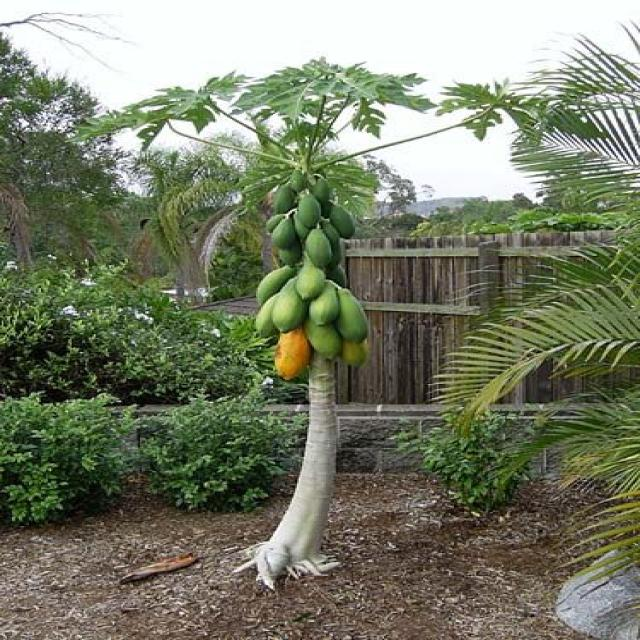Papaya-Tree: (118, 60, 474, 571)
